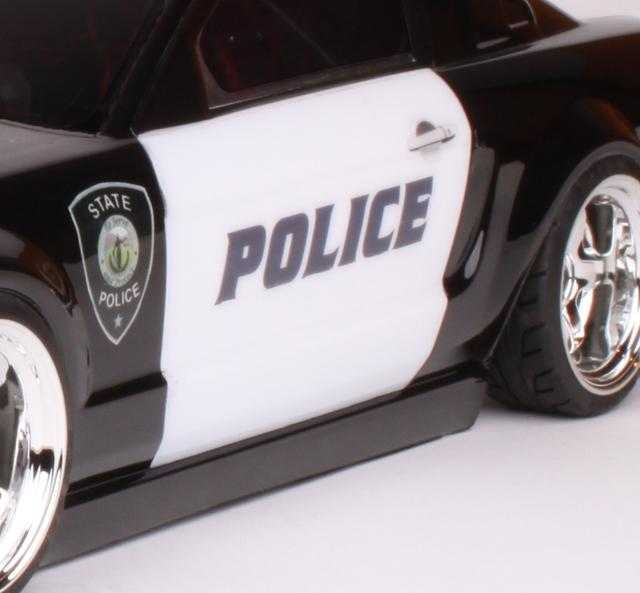Police Car: (0, 0, 607, 501)
